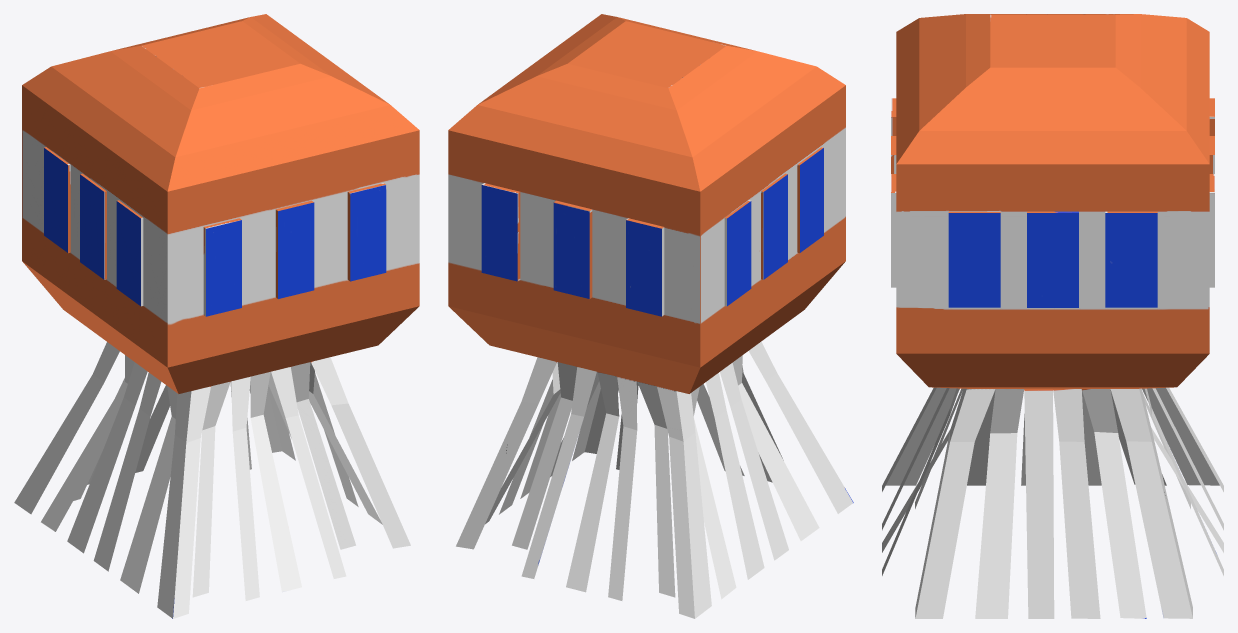
File: Gasolina.fbx
3 renders of one model, left to right at view 1: azimuth 30°, elevation 25°; view 2: azimuth 150°, elevation 25°; view 3: azimuth 270°, elevation 25°, orthographic. The views are drawn at different scales.
Visible parts, largest first — view 1: Gasolina; view 2: Gasolina; view 3: Gasolina.
Part boxes in pixels (x1,y1,x2,y2): Gasolina: (14,14,419,618); Gasolina: (448,14,853,618); Gasolina: (882,14,1223,618).
Bounding box in the file's own units: 204 × 360 × 218.
